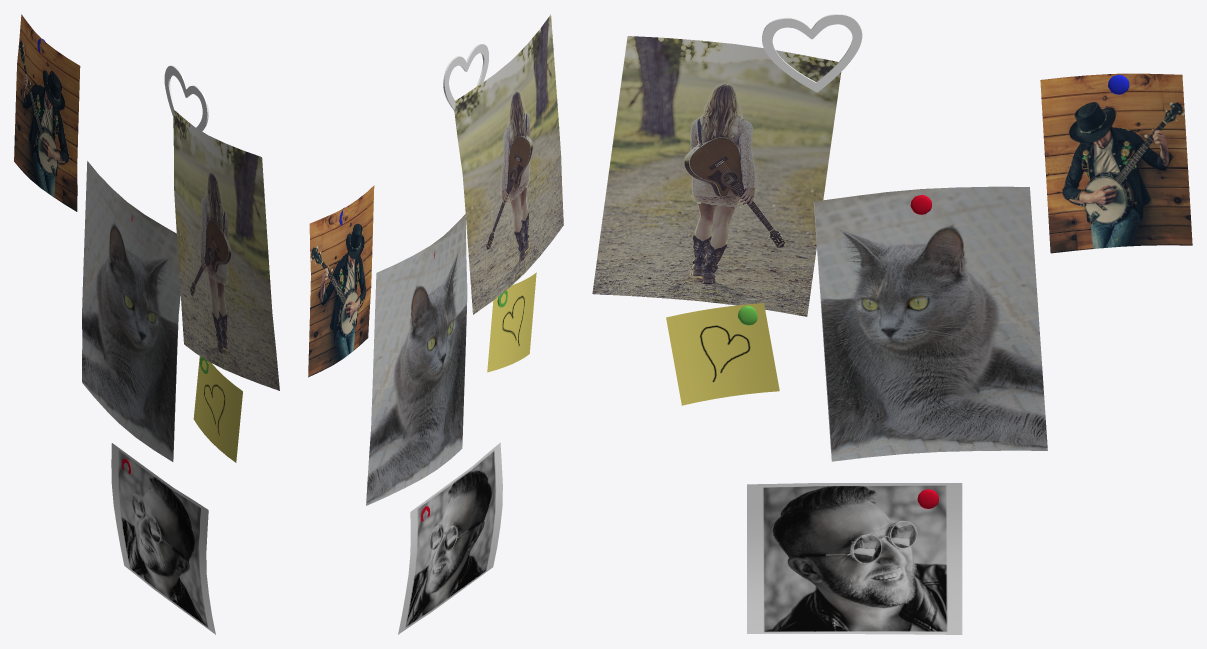
The model's file is Photos.FBX.
3 views of the same model, side by side, from view 1: azimuth 30°, elevation 25°; view 2: azimuth 150°, elevation 25°; view 3: azimuth 270°, elevation 25° (orthographic). The views are drawn at different scales.
Parts seen in each view (by area): view 1: Photos; view 2: Photos; view 3: Photos.
Boxes of the visible parts, bbox=[...] form: Photos: bbox=[14, 14, 279, 634]; Photos: bbox=[308, 14, 563, 634]; Photos: bbox=[592, 14, 1192, 634].
Bounding box in the file's own units: 1.08 × 37.46 × 32.91.
Materials: 1 (1 with a texture image).
